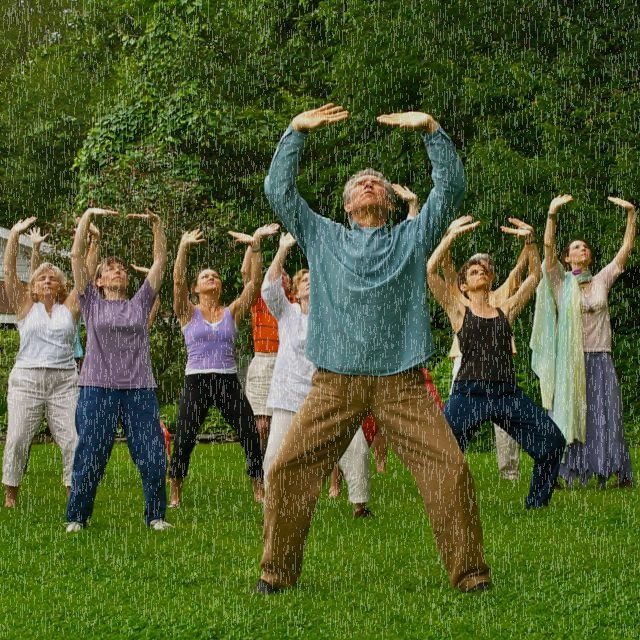pessoa: (236, 98, 500, 607), (426, 216, 568, 510), (61, 203, 182, 536), (258, 230, 376, 522), (162, 227, 267, 512), (539, 193, 638, 489), (3, 214, 102, 510), (436, 213, 536, 482), (10, 222, 96, 486), (80, 258, 168, 473), (239, 222, 298, 456), (324, 412, 392, 498), (420, 363, 446, 412), (392, 182, 419, 222)
